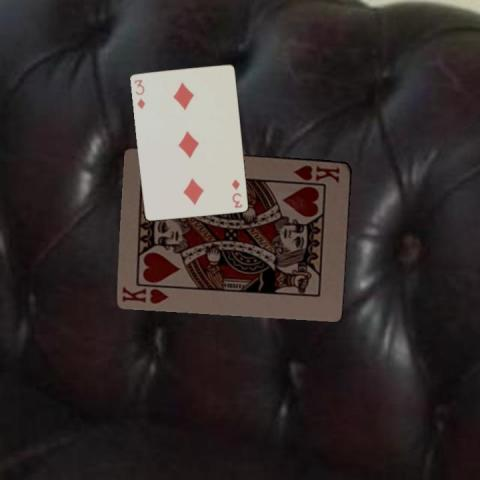3d: (131, 76, 146, 110), (229, 176, 243, 209)
Kh: (119, 283, 170, 305), (292, 162, 342, 184)
